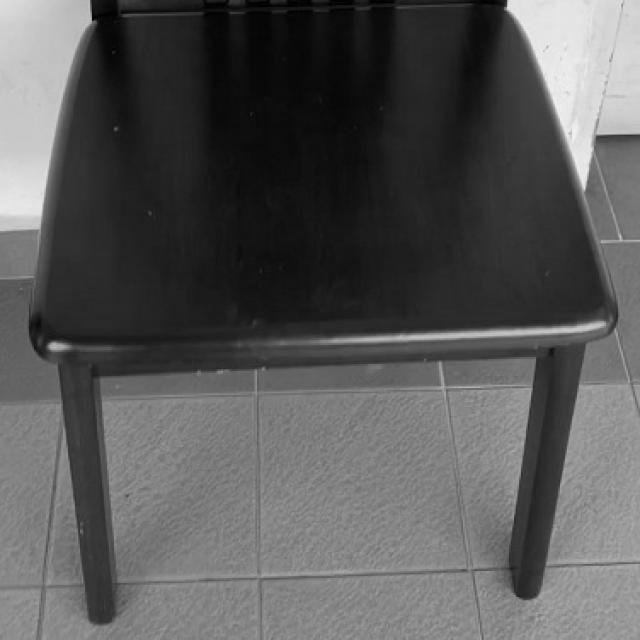chair: (24, 1, 622, 634)
